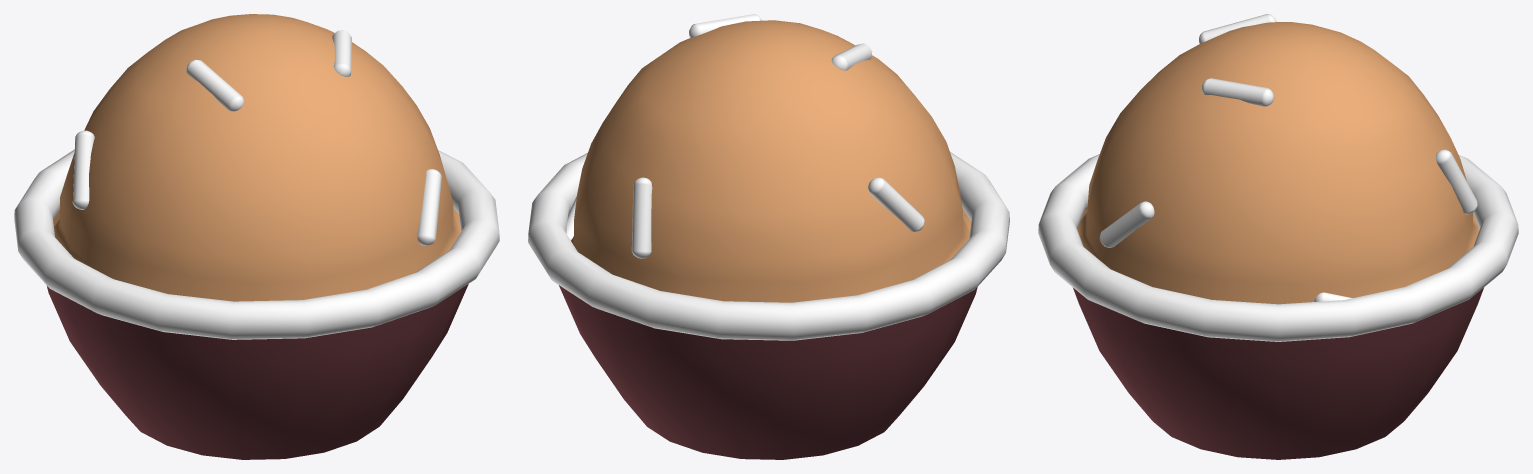
Rendered from SM_iceream_cup_2.fbx.
3 views of the same model, side by side, from view 1: azimuth 30°, elevation 25°; view 2: azimuth 150°, elevation 25°; view 3: azimuth 270°, elevation 25° (orthographic).
Parts seen in each view (by area): view 1: SM_icecream_cup; view 2: SM_icecream_cup; view 3: SM_icecream_cup.
Boxes of the visible parts, x1,y1,x2,y2 form: SM_icecream_cup: [14, 14, 499, 459]; SM_icecream_cup: [528, 14, 1009, 459]; SM_icecream_cup: [1038, 14, 1518, 459].
Bounding box in the file's own units: 397 × 333 × 397.
Materials: 1 (1 with a texture image).
